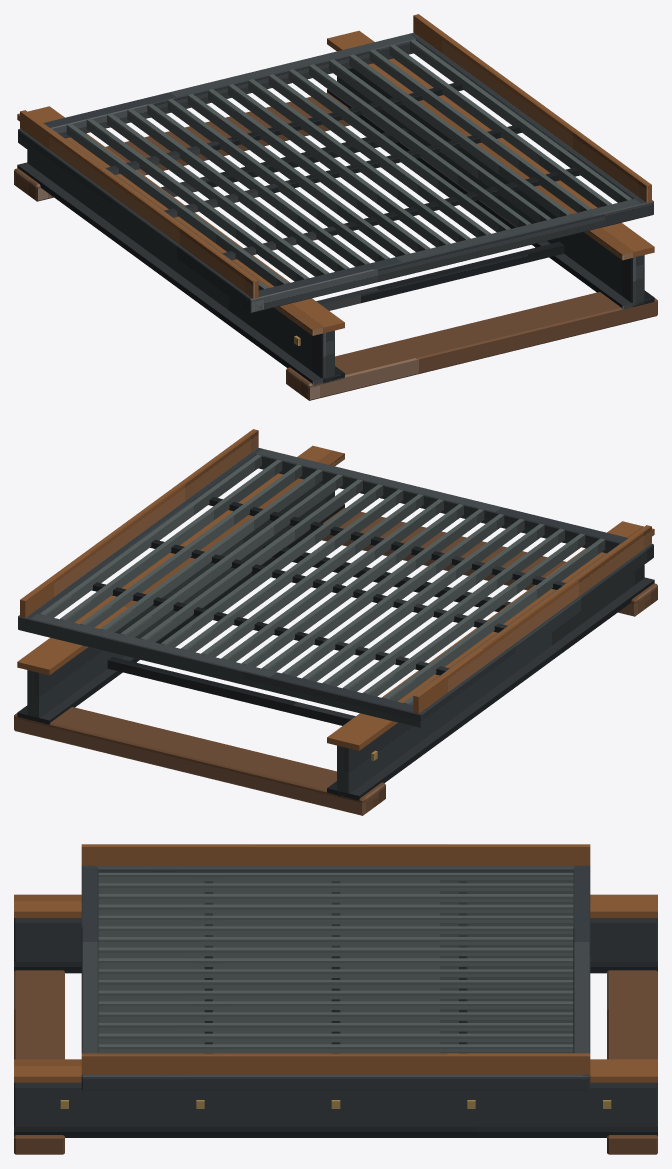
The model's file is sewer_bridge.glb.
3 views of the same model, one above another, from view 1: azimuth 30°, elevation 25°; view 2: azimuth 150°, elevation 25°; view 3: azimuth 270°, elevation 25° (orthographic). The views are drawn at different scales.
Visible parts, largest first — view 1: BearingS, DeckFrameS, GirderL, KickR, KickL, DeckFrameN, GirderR, FlangeLowL, FlangeR, DeckFrameW, Brace0, FlangeL (+25 smaller); view 2: BearingN, DeckFrameN, GirderL, KickR, KickL, DeckFrameS, GirderR, FlangeLowL, FlangeR, DeckFrameW, Brace1, FlangeL (+25 smaller); view 3: GirderR, KickL, KickR, DeckFrameE, FlangeLowR, GirderL, DeckSlat03, DeckSlat00, DeckSlat07, DeckSlat11, DeckSlat15, DeckSlat08 (+19 smaller).
Part boxes in pixels (box(x1,y1,x2,y2)): BearingS: box(286, 292, 657, 400); DeckFrameS: box(243, 199, 653, 312); GirderL: box(27, 150, 334, 380); KickR: box(413, 14, 651, 202); KickL: box(20, 110, 258, 298); DeckFrameN: box(26, 32, 418, 138); GirderR: box(337, 68, 644, 305); FlangeLowL: box(17, 162, 344, 386); FlangeR: box(327, 30, 654, 260); DeckFrameW: box(18, 128, 262, 312); Brace0: box(316, 242, 564, 310); FlangeL: box(17, 106, 344, 335); BearingN: box(14, 707, 385, 815); DeckFrameN: box(18, 614, 428, 727); GirderL: box(337, 565, 644, 795); KickR: box(20, 429, 258, 617); KickL: box(413, 525, 651, 713); DeckFrameS: box(252, 448, 646, 553); GirderR: box(27, 483, 334, 717); FlangeLowL: box(327, 577, 654, 801); FlangeR: box(17, 445, 344, 675); DeckFrameW: box(409, 543, 653, 727); Brace1: box(107, 657, 355, 725); FlangeL: box(327, 521, 654, 750); GirderR: box(14, 1082, 657, 1126); KickL: box(81, 844, 590, 865); KickR: box(81, 1053, 590, 1074); DeckFrameE: box(81, 1074, 590, 1090); FlangeLowR: box(14, 1126, 657, 1137); GirderL: box(14, 918, 657, 961); DeckSlat03: box(98, 904, 573, 915); DeckSlat00: box(98, 872, 573, 883); DeckSlat07: box(98, 947, 573, 958); DeckSlat11: box(98, 990, 573, 1001); DeckSlat15: box(98, 1033, 573, 1044); DeckSlat08: box(98, 958, 573, 969).
Size of the model in its own units: 3 by 0.73 by 3.8.
3 materials, 3 textured.
